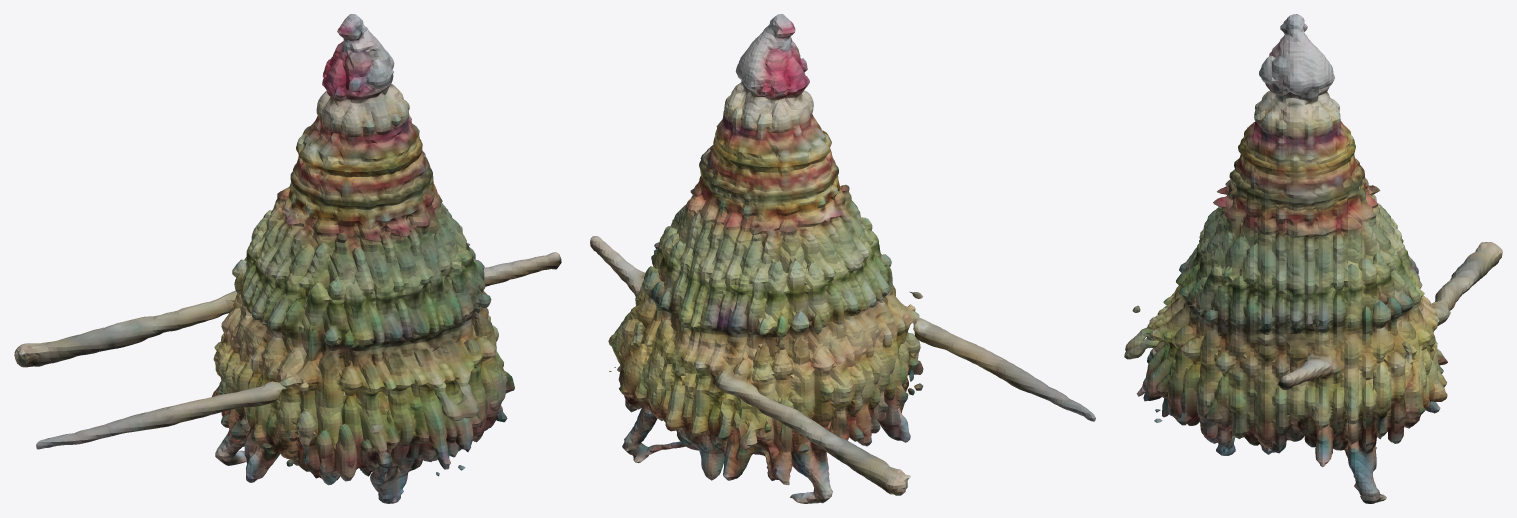
The model's file is jakarta.glb.
3 views of the same model, side by side, from view 1: azimuth 30°, elevation 25°; view 2: azimuth 150°, elevation 25°; view 3: azimuth 270°, elevation 25° (orthographic). The views are drawn at different scales.
Visible parts, largest first — view 1: world; view 2: world; view 3: world.
Boxes of the visible parts, box(x1,y1,x2,y2) form: world: box(14, 14, 561, 503); world: box(590, 14, 1095, 503); world: box(1124, 14, 1502, 503).
Bounding box in the file's own units: 1.09 × 0.9259 × 0.7154.
